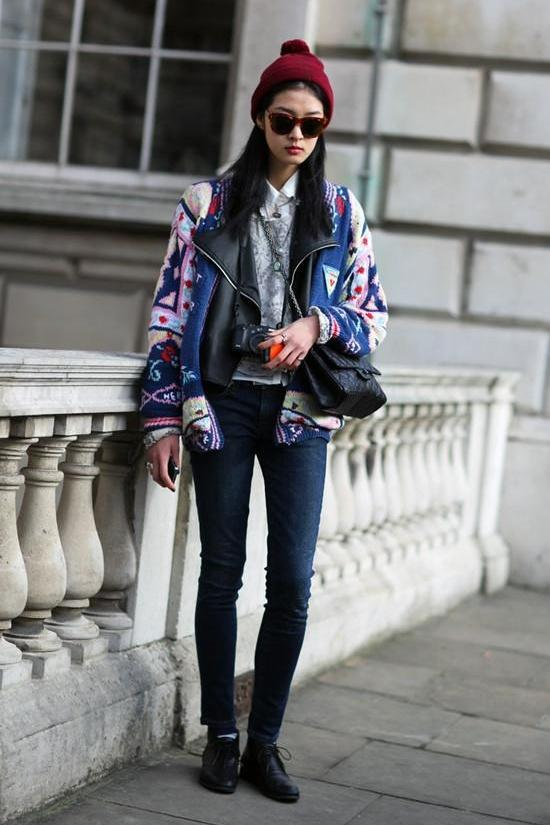pants: (188, 380, 329, 732)
sweater: (136, 172, 389, 453)
